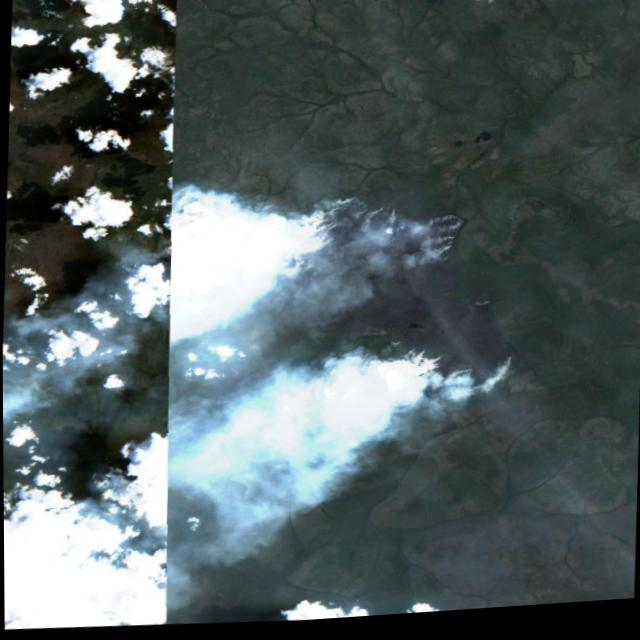fire: (264, 185, 528, 412)
